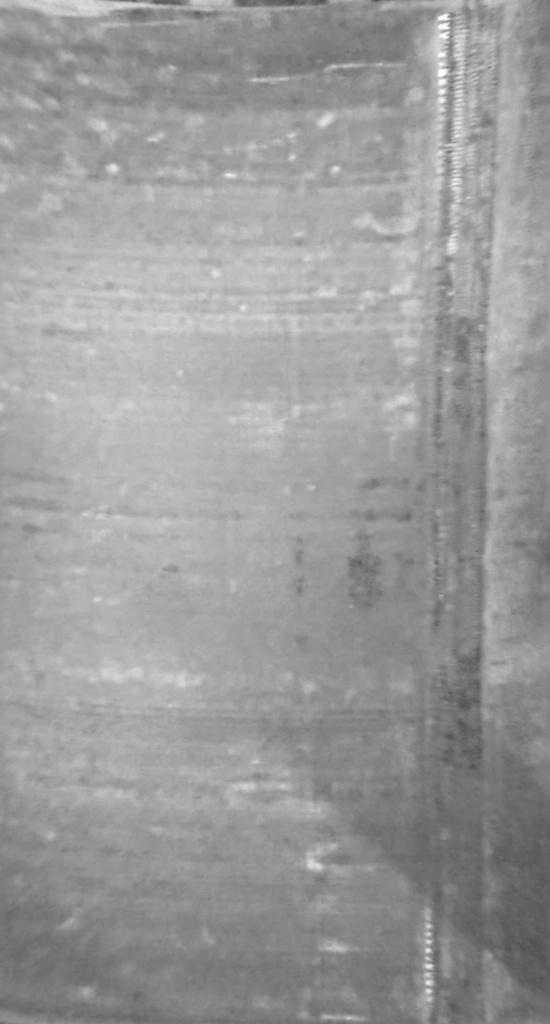splice: (412, 2, 499, 1024)
